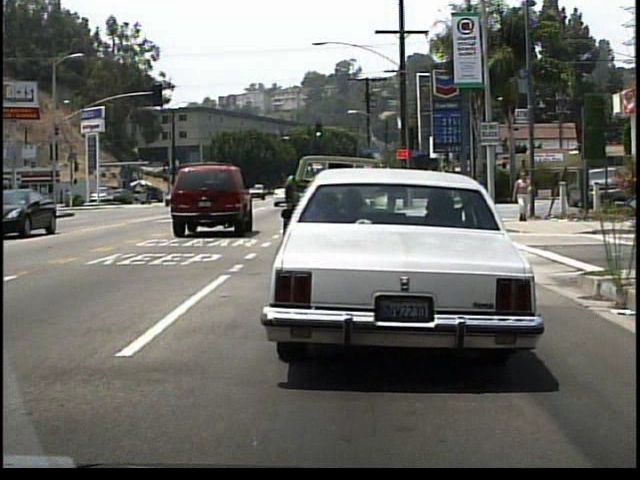person: (514, 170, 535, 225)
